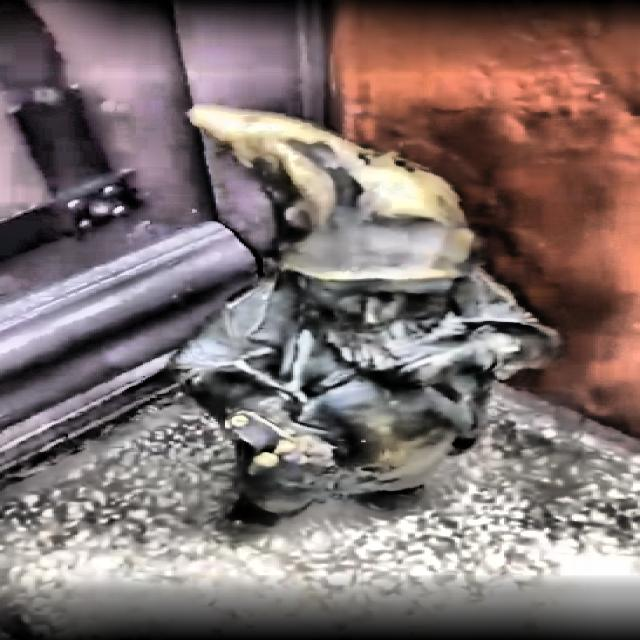TatuazystaKonstanty: (178, 105, 560, 513)
